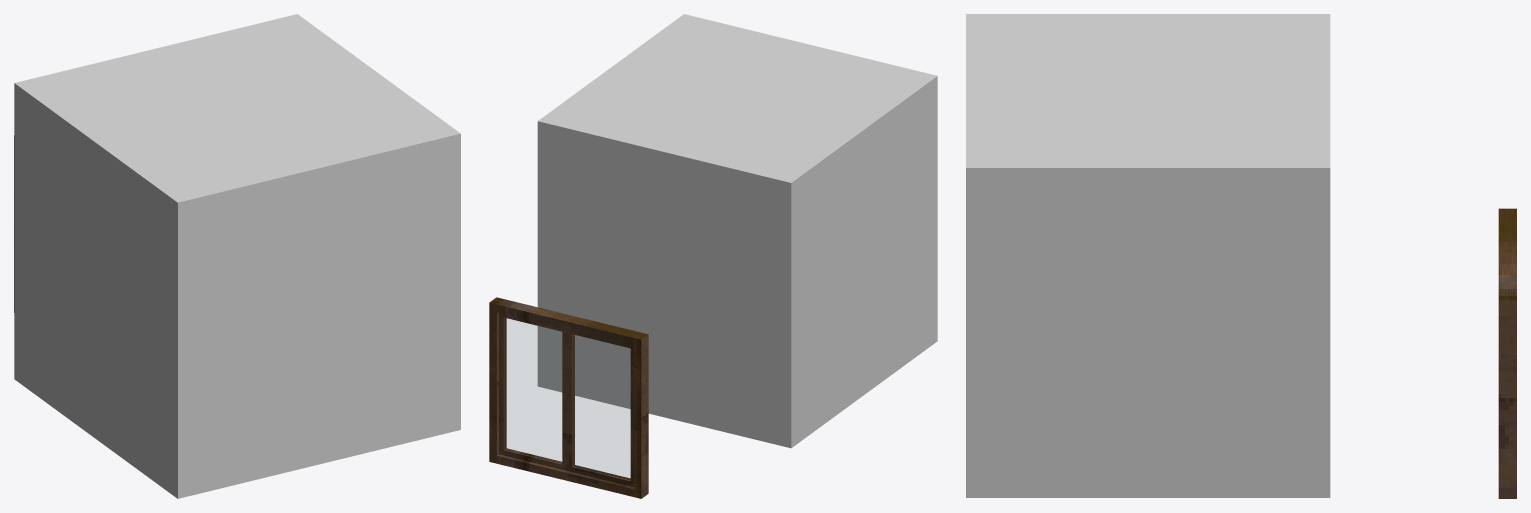
File: window.glb
3 renders of one model, left to right at view 1: azimuth 30°, elevation 25°; view 2: azimuth 150°, elevation 25°; view 3: azimuth 270°, elevation 25°, orthographic. The views are drawn at different scales.
Parts seen in each view (by area): view 1: Cube; view 2: Cube, Cube.002; view 3: Cube, Cube.002.
Part boxes in pixels (x1,y1,x2,y2): Cube: (14, 14, 460, 498); Cube: (537, 14, 937, 448); Cube.002: (489, 297, 648, 498); Cube: (966, 14, 1330, 497); Cube.002: (1498, 208, 1516, 498).
Size of the model in its own units: 2 by 2.1 by 3.03.
Materials: 3 (1 with a texture image).
